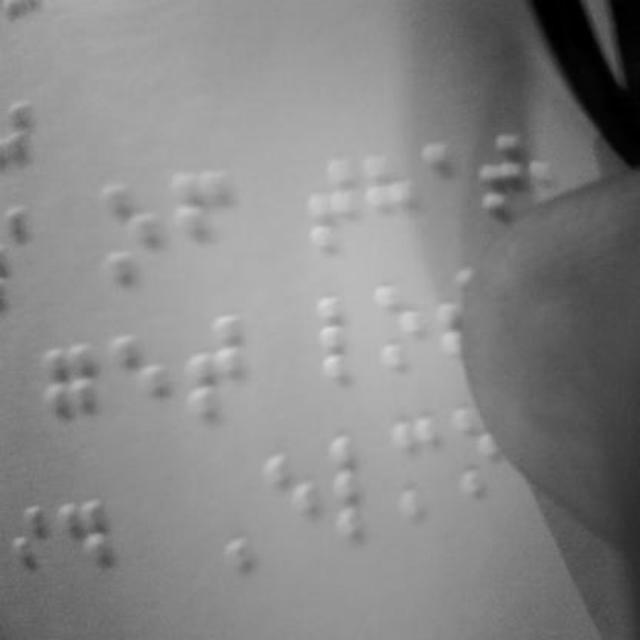braiile: (54, 490, 114, 610), (184, 312, 246, 428), (98, 175, 162, 287), (38, 341, 98, 457), (108, 330, 174, 434), (174, 164, 234, 278), (332, 428, 388, 540), (302, 150, 360, 258), (261, 447, 317, 551), (370, 281, 428, 379), (362, 150, 414, 258), (0, 503, 50, 609), (314, 292, 370, 386)
